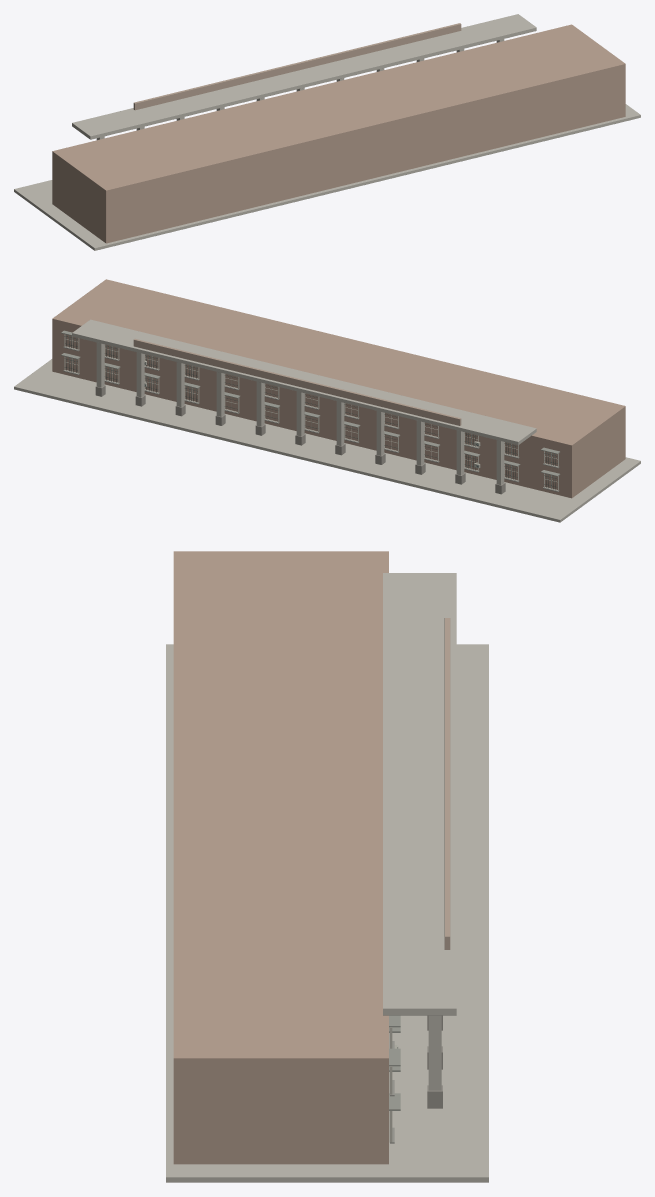
File: kerala_ncj_entry.glb
The picture shows the model from 3 angles, top to bottom: view 1: azimuth 30°, elevation 25°; view 2: azimuth 150°, elevation 25°; view 3: azimuth 270°, elevation 25°; orthographic projection. The views are drawn at different scales.
Visible parts, largest first — view 1: kerala_ncj_entry; view 2: kerala_ncj_entry; view 3: kerala_ncj_entry.
Boxes of the visible parts, left/top/right/bottom form: kerala_ncj_entry: left=14, top=14, right=640, bottom=250; kerala_ncj_entry: left=14, top=279, right=640, bottom=522; kerala_ncj_entry: left=166, top=551, right=488, bottom=1182.
Size of the model in its own units: 82 by 9.97 by 21.
